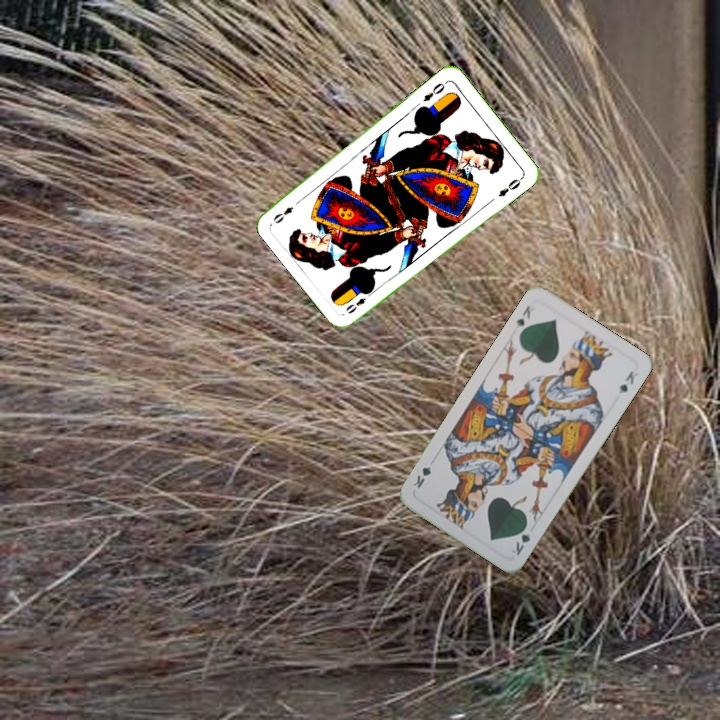EO: (341, 287, 376, 316), (419, 77, 449, 104)
GK: (508, 520, 533, 558), (511, 301, 533, 332)
